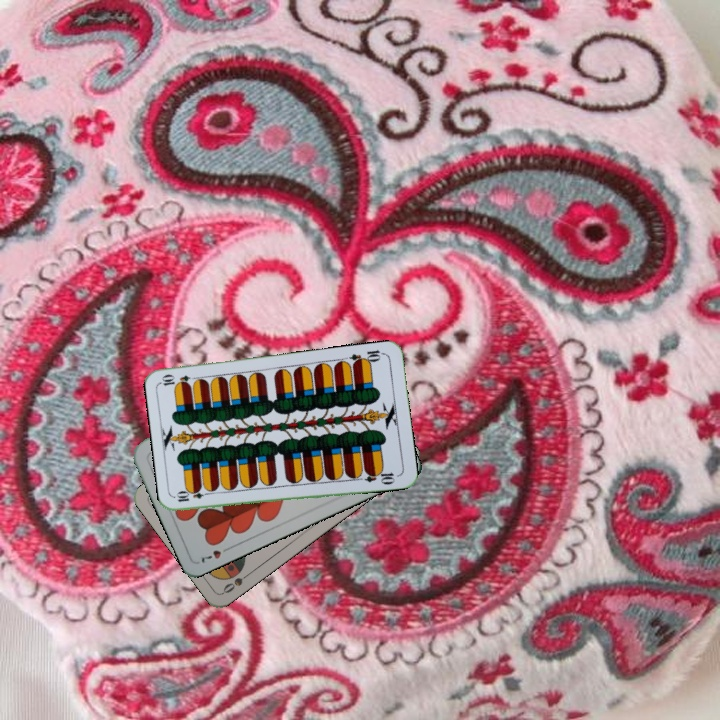E10: (346, 346, 387, 368), (173, 487, 213, 505)
H7: (197, 542, 234, 566)
SO: (219, 567, 254, 596)
